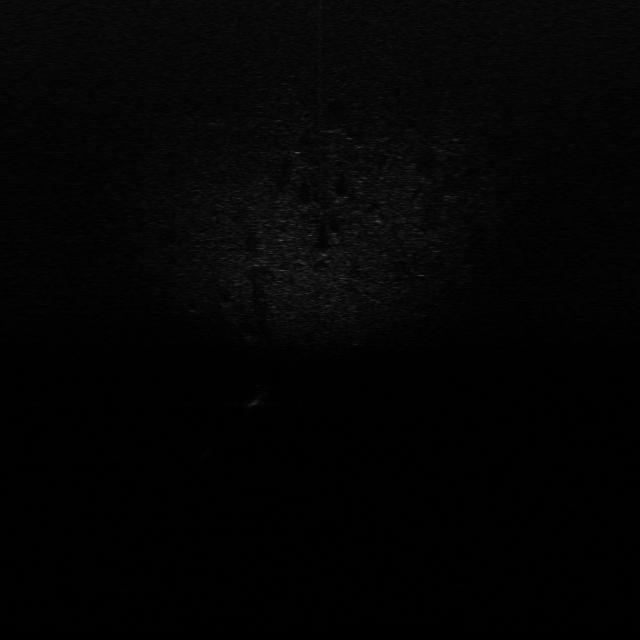human body: (241, 384, 273, 418)
